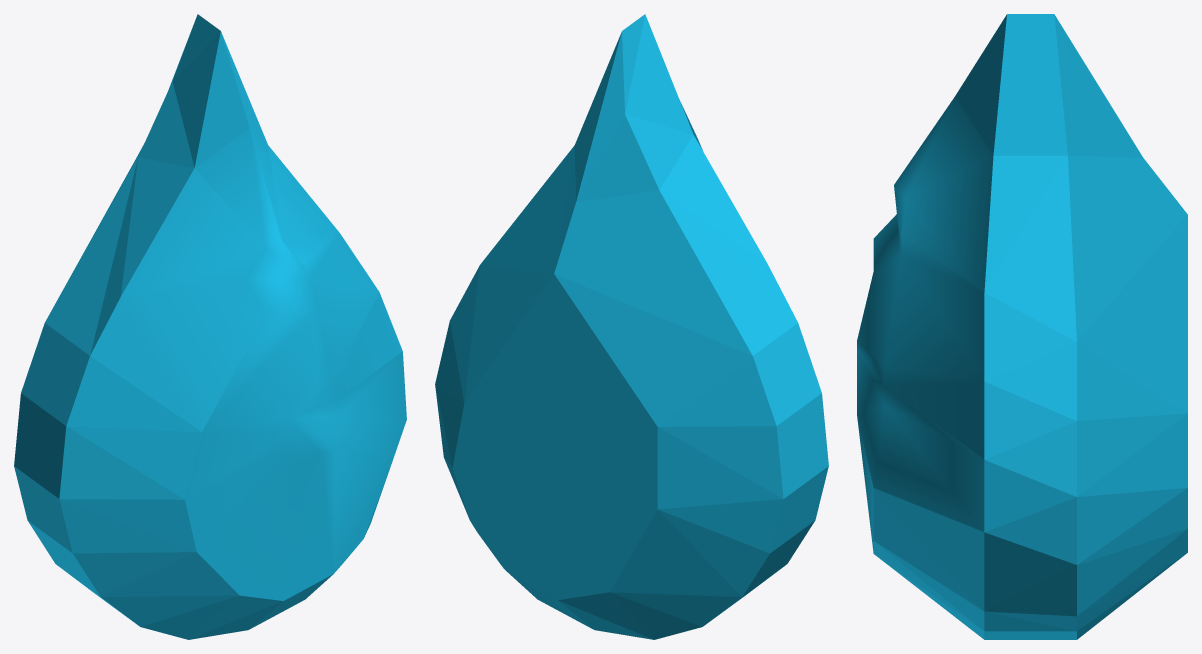
The model's file is Drop.fbx.
3 renders of one model, left to right at view 1: azimuth 30°, elevation 25°; view 2: azimuth 150°, elevation 25°; view 3: azimuth 270°, elevation 25°, orthographic.
Parts seen in each view (by area): view 1: Drop; view 2: Drop; view 3: Drop.
Boxes of the visible parts, x1,y1,x2,y2 form: Drop: (14, 14, 406, 639); Drop: (435, 14, 828, 639); Drop: (857, 14, 1187, 639).
Size of the model in its own units: 0.00547 by 0.00893 by 0.00441.
